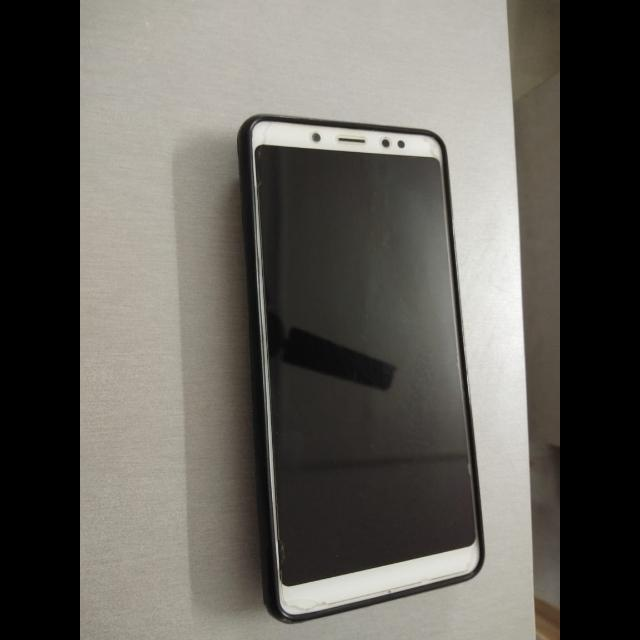Smartphone: (221, 99, 501, 632)
